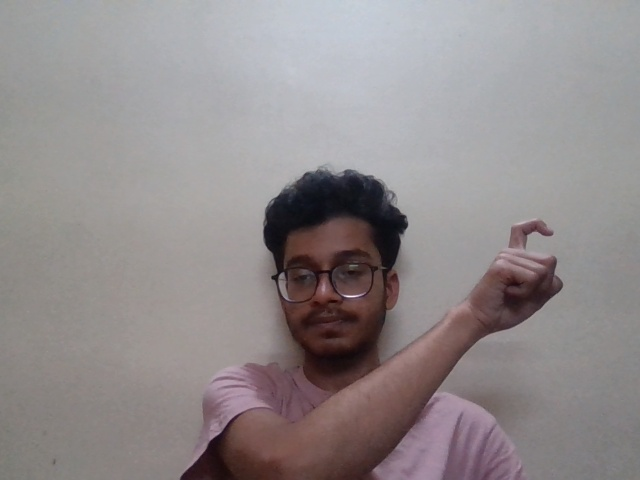Z: (435, 202, 605, 340)
